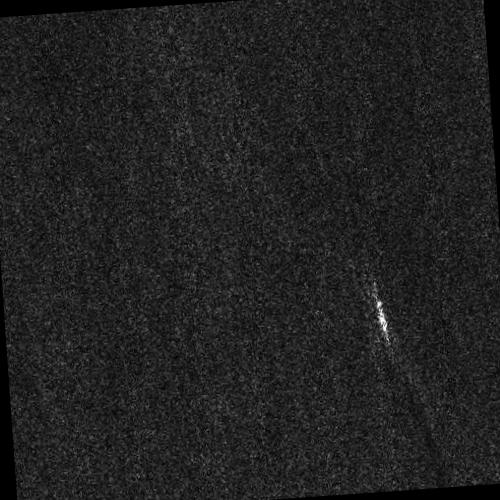ship: (375, 296, 388, 342)
